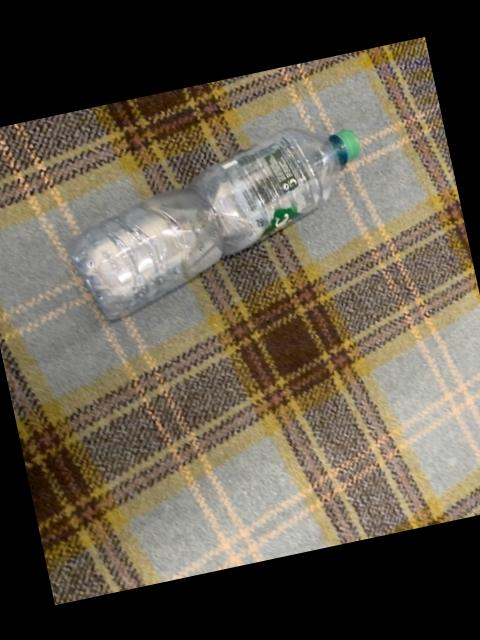plastic: (72, 129, 362, 319)
